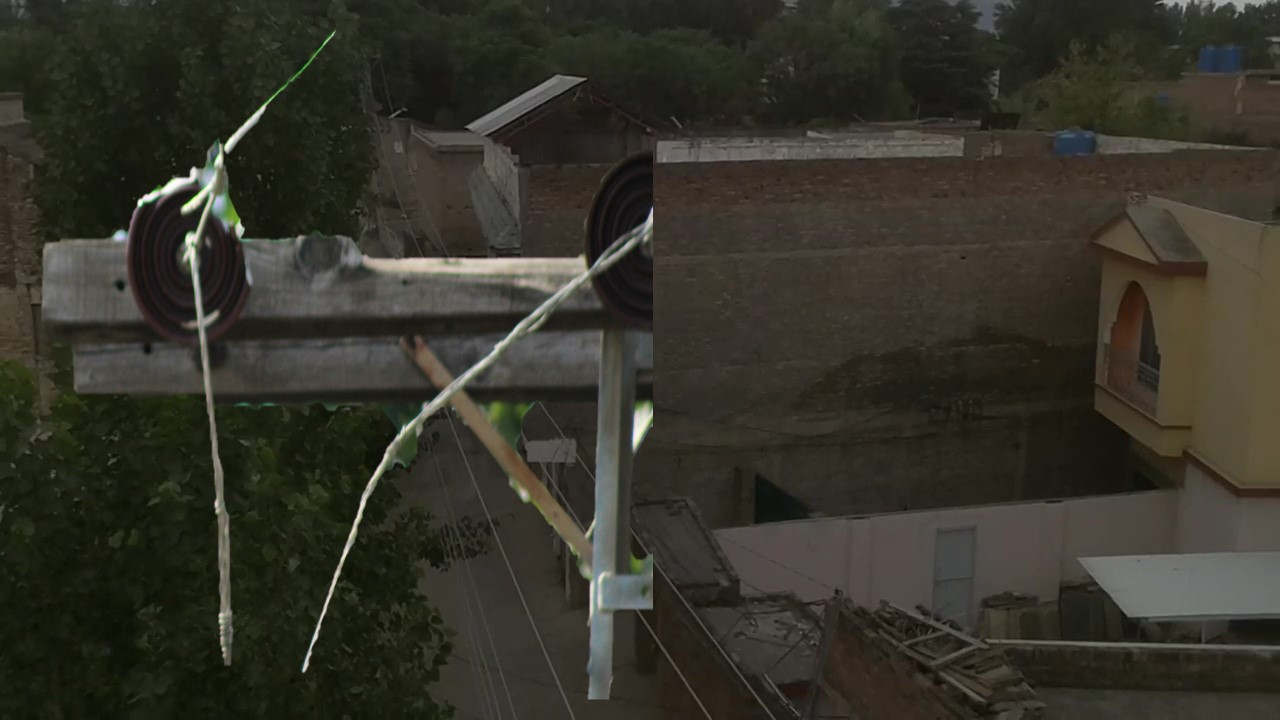defect_disc: (123, 162, 262, 349)
